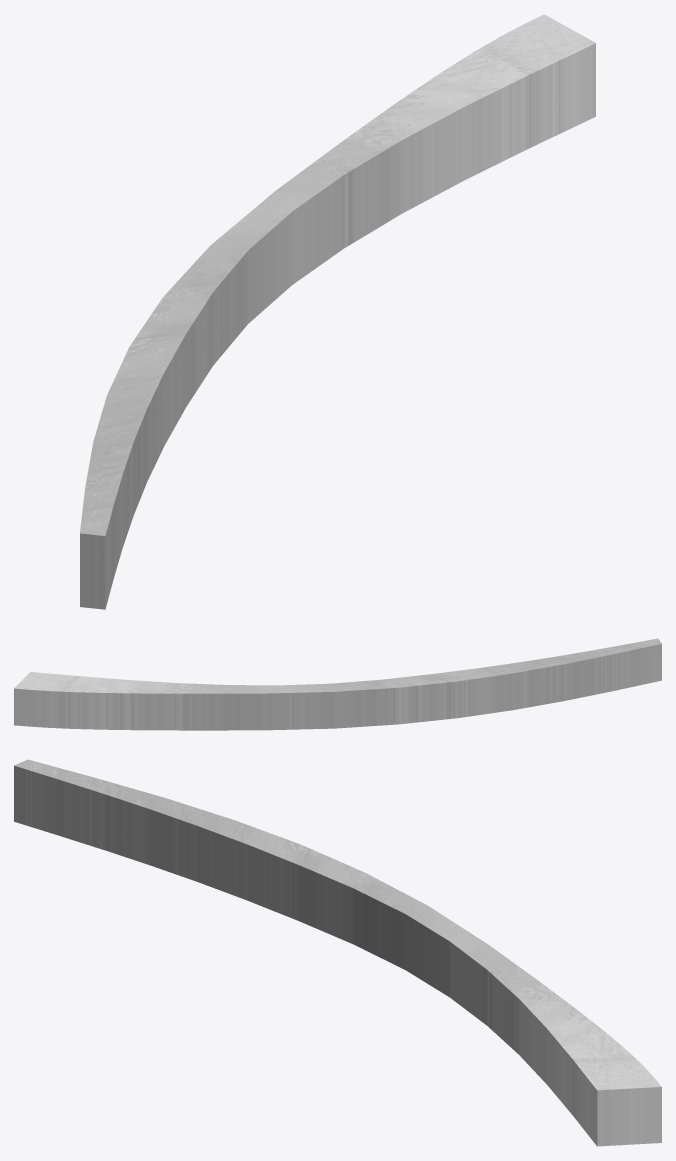
File: blanc2.FBX
The picture shows the model from 3 angles, top to bottom: view 1: azimuth 30°, elevation 25°; view 2: azimuth 150°, elevation 25°; view 3: azimuth 270°, elevation 25°; orthographic projection. The views are drawn at different scales.
Parts seen in each view (by area): view 1: Ligne043; view 2: Ligne043; view 3: Ligne043.
Boxes of the visible parts, bbox=[...] form: Ligne043: bbox=[80, 14, 595, 609]; Ligne043: bbox=[14, 638, 661, 730]; Ligne043: bbox=[14, 759, 661, 1146].
Bounding box in the file's own units: 23.52 × 1.86 × 19.47.
1 material, 1 textured.
